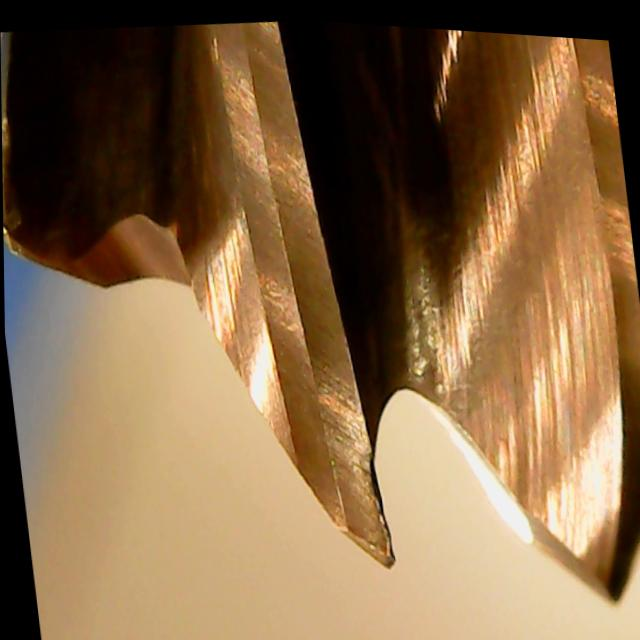Tool-wear-class-1: (237, 242, 410, 582)
